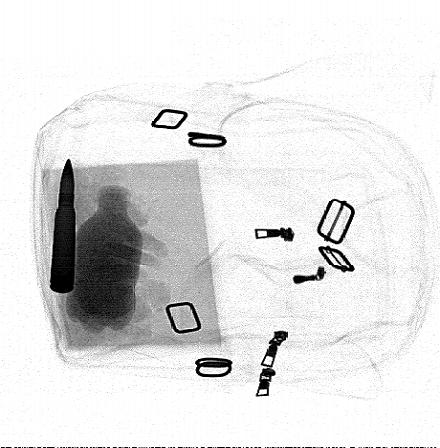Bullet: (49, 156, 76, 294)
